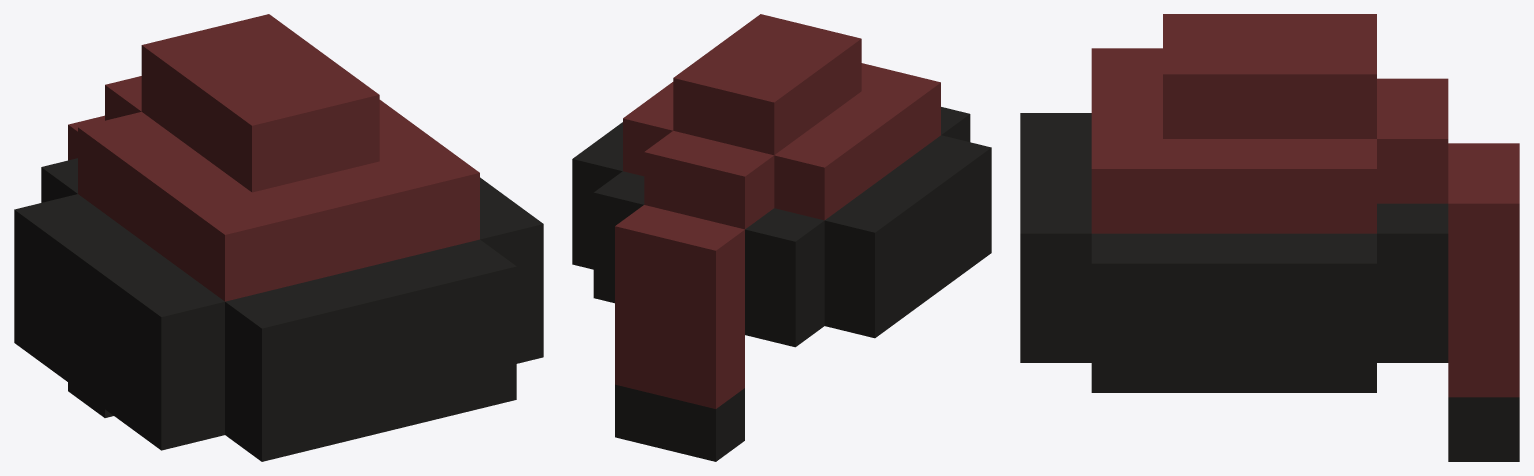
File: char-71-helm_lgt_2d_ja_color.obj
The picture shows the model from 3 angles, left to right: view 1: azimuth 30°, elevation 25°; view 2: azimuth 150°, elevation 25°; view 3: azimuth 270°, elevation 25°; orthographic projection. The views are drawn at different scales.
Visible parts, largest first — view 1: helm_lgt_2d_ja_color; view 2: helm_lgt_2d_ja_color; view 3: helm_lgt_2d_ja_color.
Part boxes in pixels (bbox=[...]): helm_lgt_2d_ja_color: bbox=[14, 14, 543, 461]; helm_lgt_2d_ja_color: bbox=[572, 14, 991, 461]; helm_lgt_2d_ja_color: bbox=[1020, 14, 1519, 461].
Bounding box in the file's own units: 0.6 × 0.6 × 0.7.
Materials: 1 (1 with a texture image).
